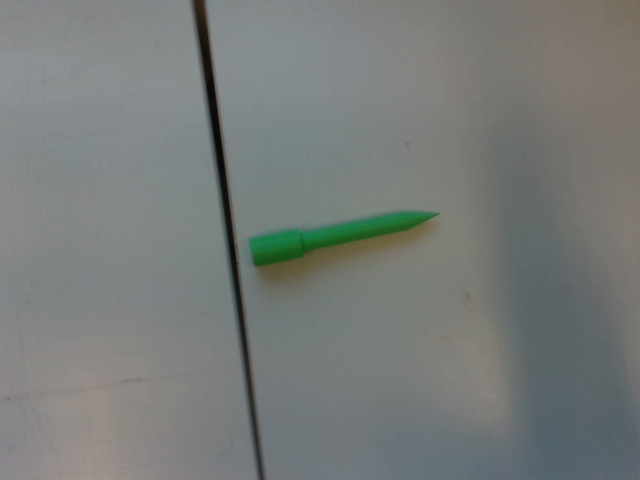Probe: (244, 202, 449, 270)
